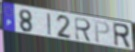2: (56, 15, 72, 41)
8: (18, 9, 34, 34)
I: (46, 13, 53, 38)
P: (94, 20, 111, 44)
R: (112, 22, 132, 51), (74, 16, 93, 44)
